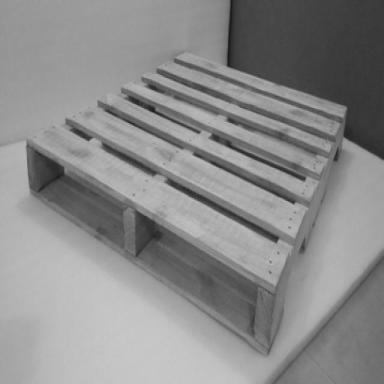pallet: (26, 50, 347, 356)
